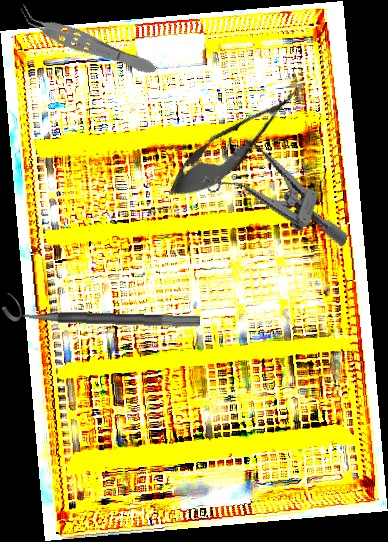Fixation Ring: (1, 291, 201, 329)
Micro Scissor: (157, 69, 317, 213)
Speculum: (195, 132, 366, 247)
Tissue Forceps: (13, 3, 161, 81)
